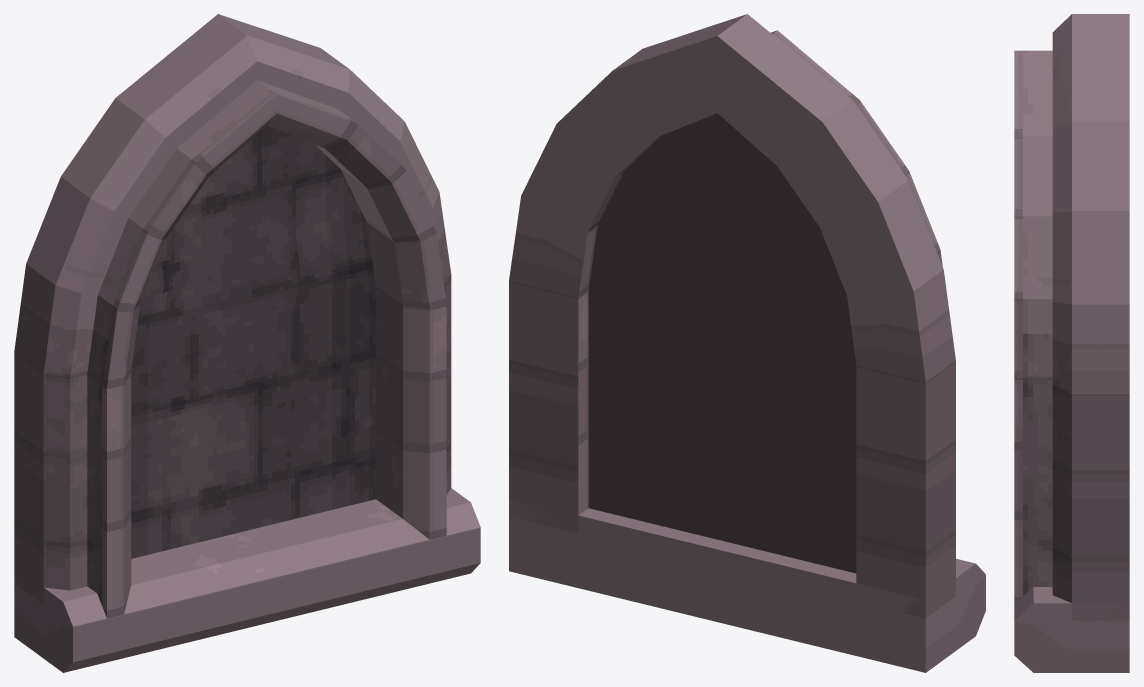
Rendered from wandnische_spitz_raum_b.glb.
The picture shows the model from 3 angles, left to right: view 1: azimuth 30°, elevation 25°; view 2: azimuth 150°, elevation 25°; view 3: azimuth 270°, elevation 25°; orthographic projection. The views are drawn at different scales.
Parts seen in each view (by area): view 1: gewaende, platte, sohlbank; view 2: gewaende, platte, sohlbank; view 3: gewaende, sohlbank.
Boxes of the visible parts, left/top/right/bottom form: gewaende: left=14, top=14, right=451, bottom=618; platte: left=131, top=125, right=375, bottom=558; sohlbank: left=14, top=488, right=480, bottom=672; gewaende: left=509, top=14, right=955, bottom=618; platte: left=588, top=113, right=856, bottom=573; sohlbank: left=509, top=498, right=985, bottom=672; gewaende: left=1014, top=14, right=1129, bottom=620; sohlbank: left=1014, top=587, right=1129, bottom=672.
Size of the model in its own units: 1.5 by 2.02 by 0.375.
1 material, 1 textured.
